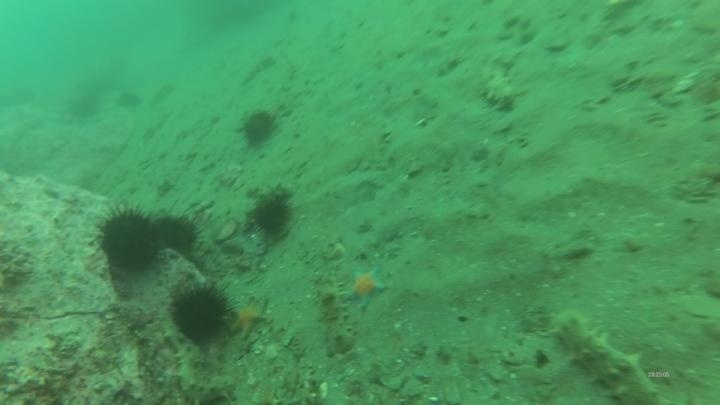echinus: (95, 204, 165, 276), (167, 280, 234, 347), (248, 189, 295, 240), (151, 211, 202, 257), (238, 107, 280, 149), (67, 89, 103, 122), (115, 88, 144, 113)
holothurian: (548, 309, 661, 404), (160, 322, 230, 403), (314, 273, 357, 357), (475, 54, 522, 114), (239, 53, 278, 87)
starfish: (341, 264, 389, 311), (226, 295, 271, 341)
